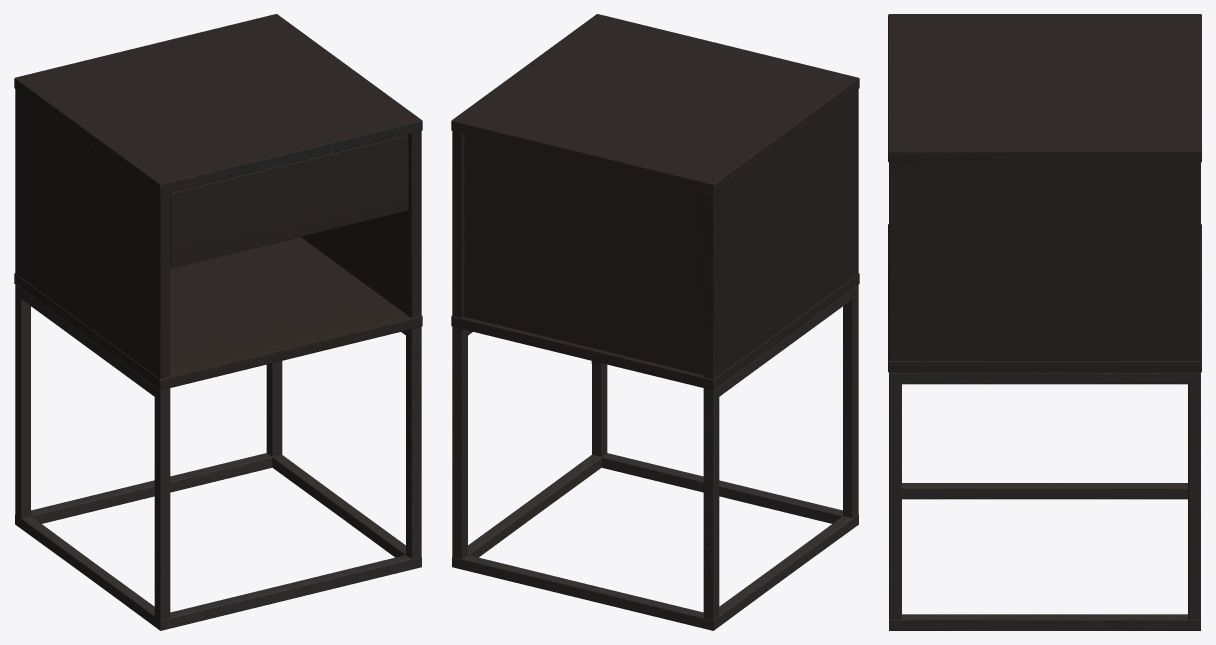
3 renders of one model, left to right at view 1: azimuth 30°, elevation 25°; view 2: azimuth 150°, elevation 25°; view 3: azimuth 270°, elevation 25°, orthographic. The views are drawn at different scales.
Parts seen in each view (by area): view 1: 20388972-VIKHAMMER001; view 2: 20388972-VIKHAMMER001; view 3: 20388972-VIKHAMMER001.
Part boxes in pixels (x1,y1,x2,y2): 20388972-VIKHAMMER001: [14, 14, 422, 630]; 20388972-VIKHAMMER001: [451, 14, 859, 630]; 20388972-VIKHAMMER001: [888, 14, 1201, 630].
Bounding box in the file's own units: 0.4 × 0.6518 × 0.385.
Materials: 1 (1 with a texture image).
